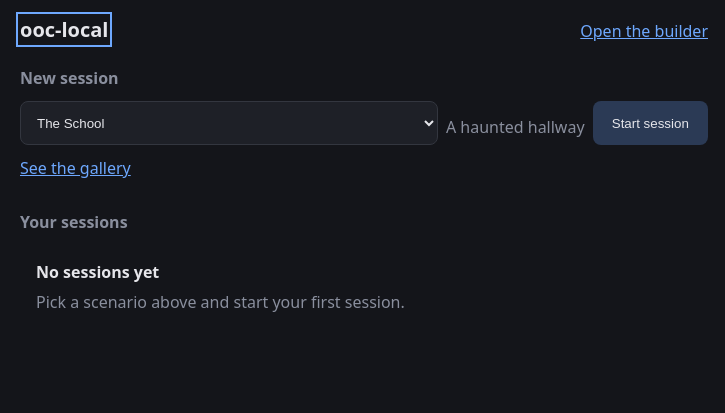
Test: SessionsScreen › shows an inline error on POST failure, re-enables controls and keeps the hash unchanged
Click the button "Start session". click: (650, 123)
box: [593,101,708,145]
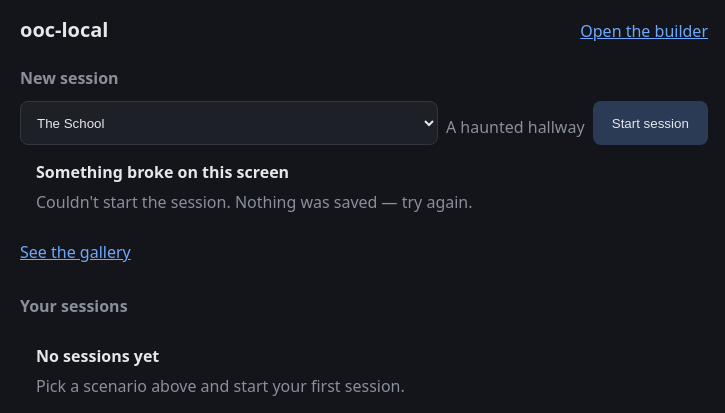
Check: the dropdown named "Scenario" shows "The School", box [20,101,438,145]
Check: the text "Couldn't start the session. Nothing was saved — try again." is shown, box [36,191,472,213]
